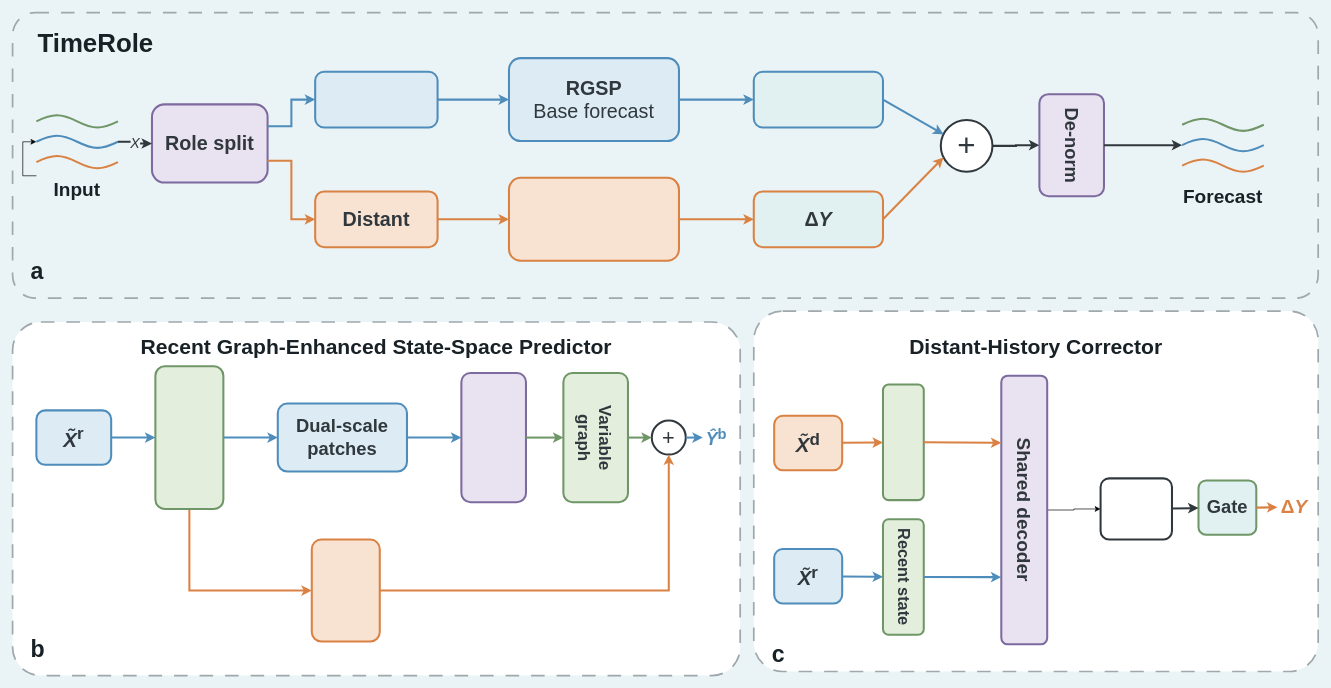
The diagram is 1331 pixels wide and 688 high, and some of its shapes have lost their labels. Each missing label, with the centre of its shape:
"AvgPool" belongs at point (903, 442).
"Base Ŷ b" belongs at point (818, 99).
"Bi-Mamba" belongs at point (493, 437).
"Decomp." belongs at point (189, 437).
"DHC Correction" belongs at point (594, 218).
"Diff." belongs at point (1136, 508).
"Recent" belongs at point (376, 99).
"Trend proj." belongs at point (345, 590).
